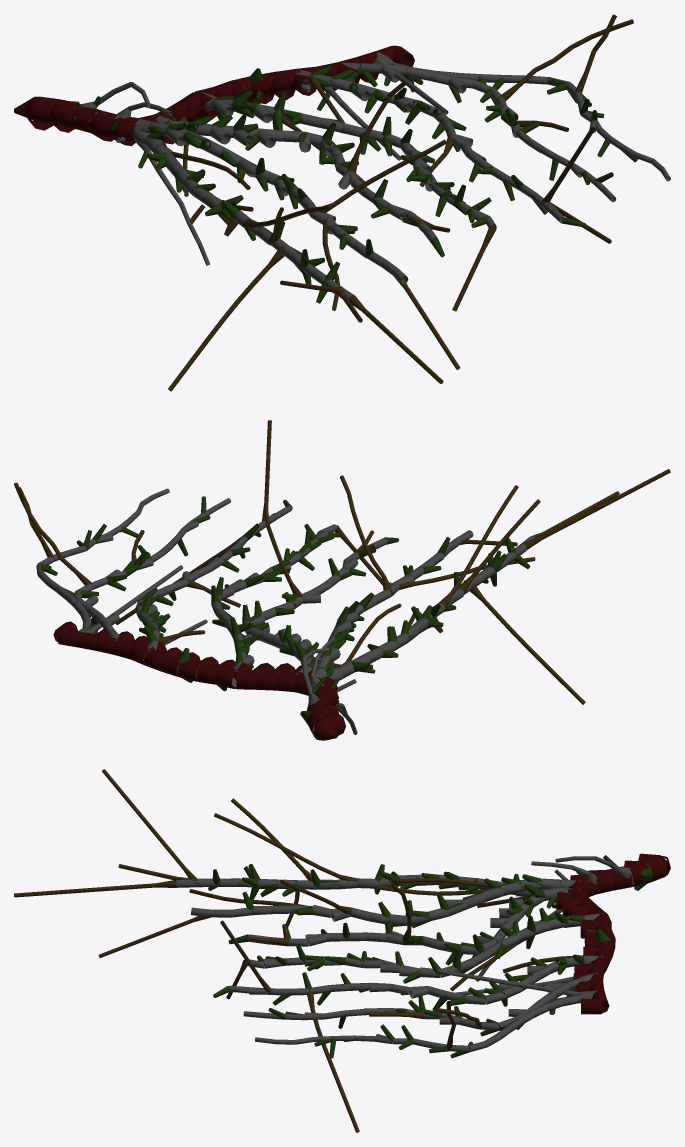
File: tree_14.obj
The picture shows the model from 3 angles, top to bottom: view 1: azimuth 30°, elevation 25°; view 2: azimuth 150°, elevation 25°; view 3: azimuth 270°, elevation 25°; orthographic projection. The views are drawn at different scales.
Size of the model in its own units: 27.54 by 9.4 by 32.28.
